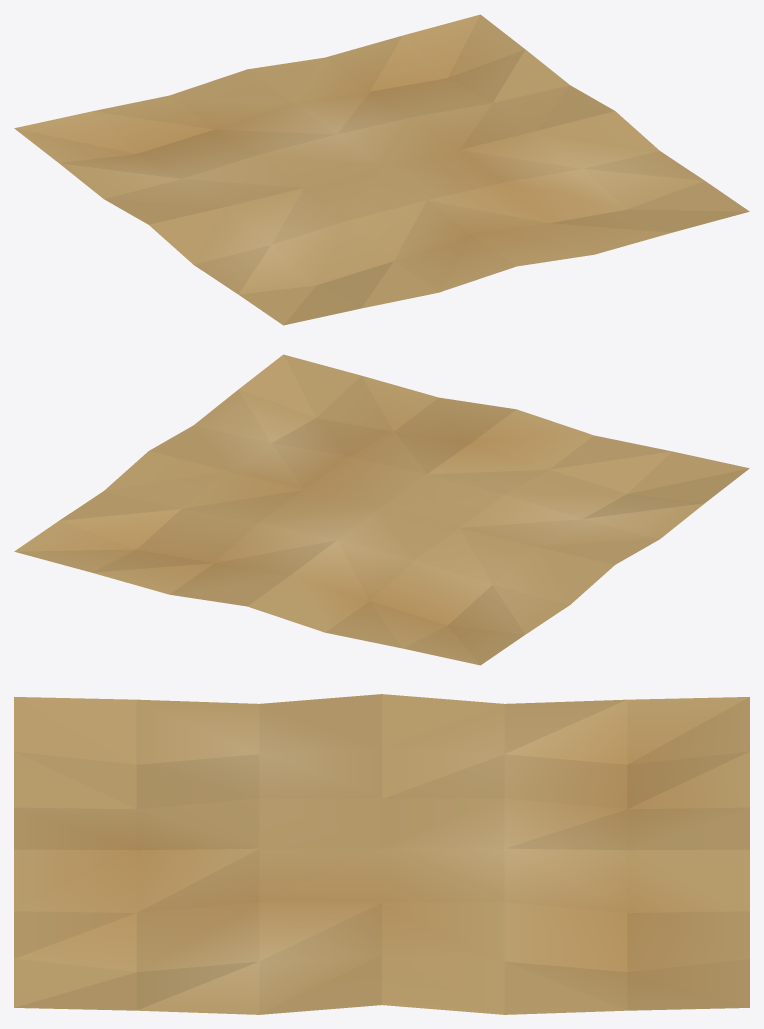
The model's file is Mixed_Ground_01.fbx.
3 renders of one model, top to bottom at view 1: azimuth 30°, elevation 25°; view 2: azimuth 150°, elevation 25°; view 3: azimuth 270°, elevation 25°, orthographic. The views are drawn at different scales.
Parts seen in each view (by area): view 1: Ground_01.001; view 2: Ground_01.001; view 3: Ground_01.001.
Part boxes in pixels (x1=…): Ground_01.001: x1=14, y1=14, x2=749, y2=325; Ground_01.001: x1=14, y1=354, x2=749, y2=665; Ground_01.001: x1=14, y1=694, x2=749, y2=1014.
Size of the model in its own units: 1000 by 30.32 by 1000.
